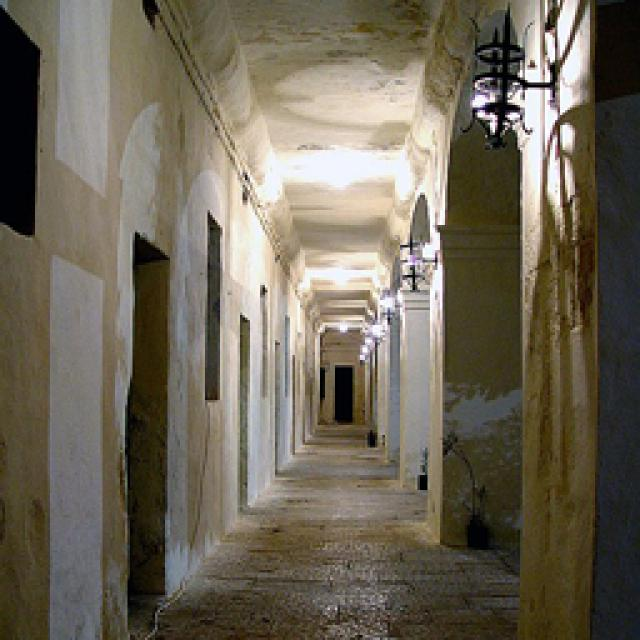2001: (0, 183, 178, 365), (398, 190, 592, 320)
ceiling lamps: (542, 115, 628, 170)
chair: (95, 315, 268, 435), (245, 320, 335, 398), (348, 298, 432, 372), (545, 275, 620, 328), (455, 298, 505, 345)
chair -occluded-: (250, 368, 498, 638), (0, 385, 238, 635), (405, 332, 595, 620), (535, 310, 635, 540)
conference table: (92, 322, 620, 490)
curtain crop: (0, 95, 192, 188), (392, 140, 592, 190)
fan lamp: (0, 0, 312, 65)
fax machine: (302, 270, 360, 322)
lamp crop: (370, 252, 405, 292)
painting crop: (320, 168, 378, 265), (210, 172, 270, 212), (218, 228, 260, 272), (610, 210, 635, 235)
picture crop: (285, 230, 308, 265)
